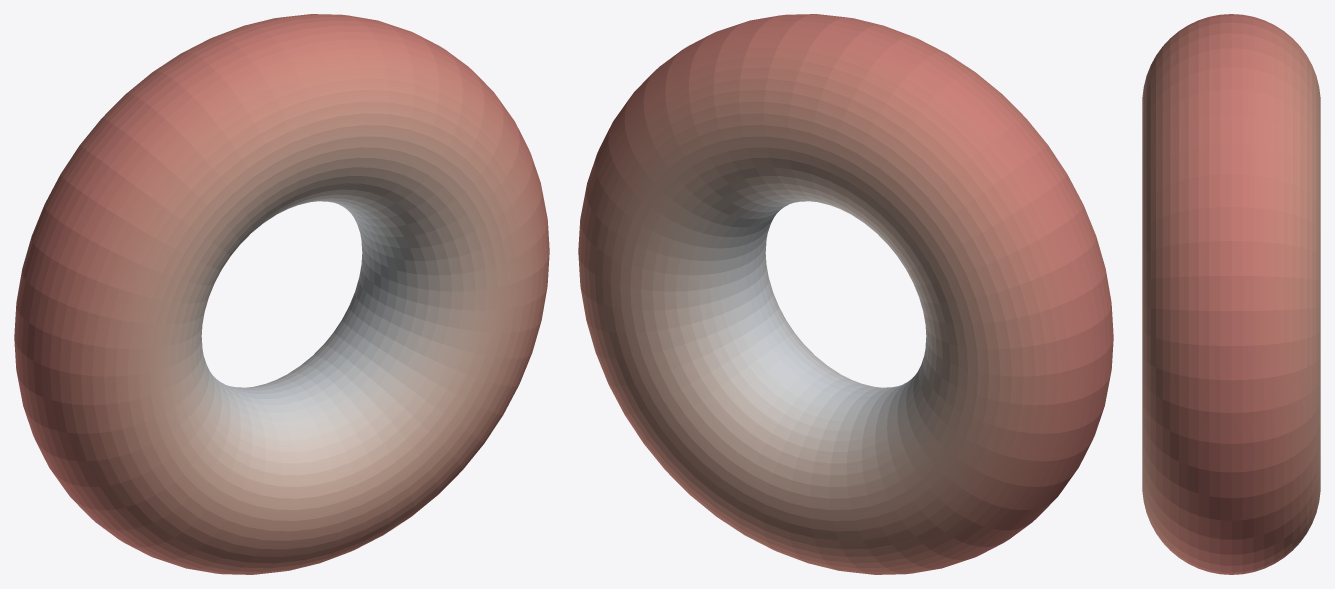
3 renders of one model, left to right at view 1: azimuth 30°, elevation 25°; view 2: azimuth 150°, elevation 25°; view 3: azimuth 270°, elevation 25°, orthographic. The views are drawn at different scales.
Visible parts, largest first — view 1: world; view 2: world; view 3: world.
Part boxes in pixels (left/top/right/bottom): world: left=14, top=14, right=549, bottom=574; world: left=578, top=14, right=1113, bottom=574; world: left=1142, top=14, right=1320, bottom=574.
Size of the model in its own units: 26.4 by 26.35 by 8.38.
